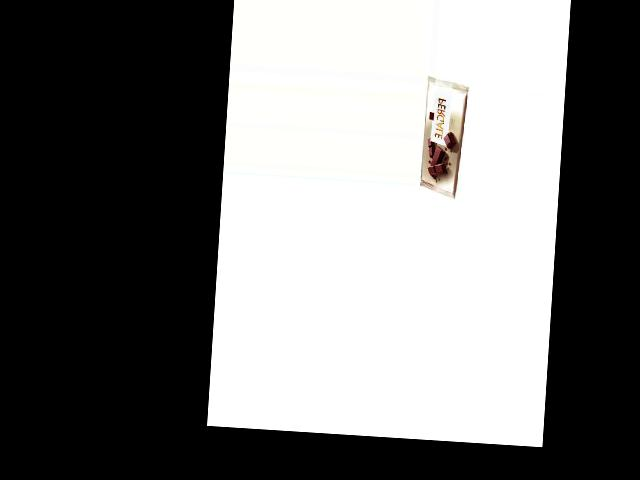chocolate: (419, 74, 467, 201)
